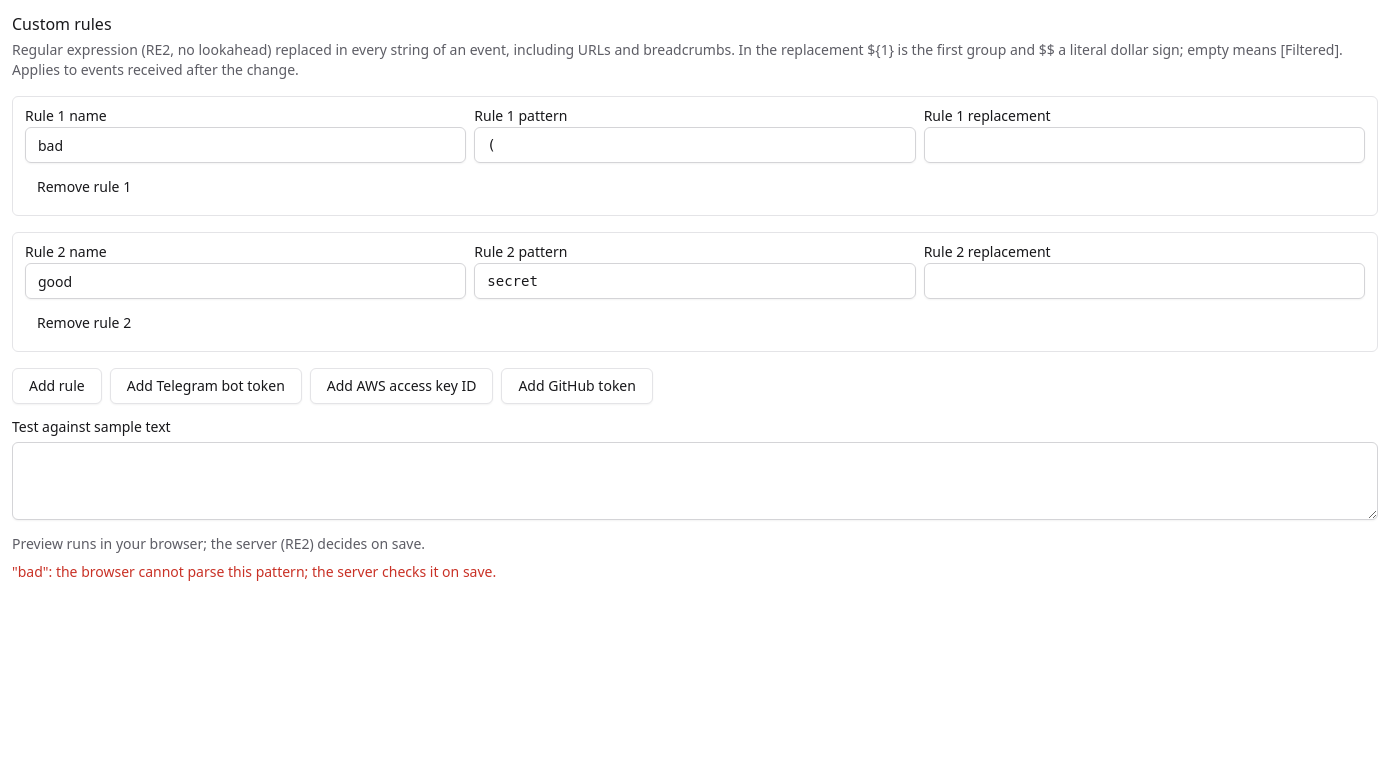
ScrubRulesEditor › shows every unparsable pattern in one alert and still previews the other rules
Type "a secret" into the text box labelled "Test against sample text" at (695, 481), box [12,442,1378,520]
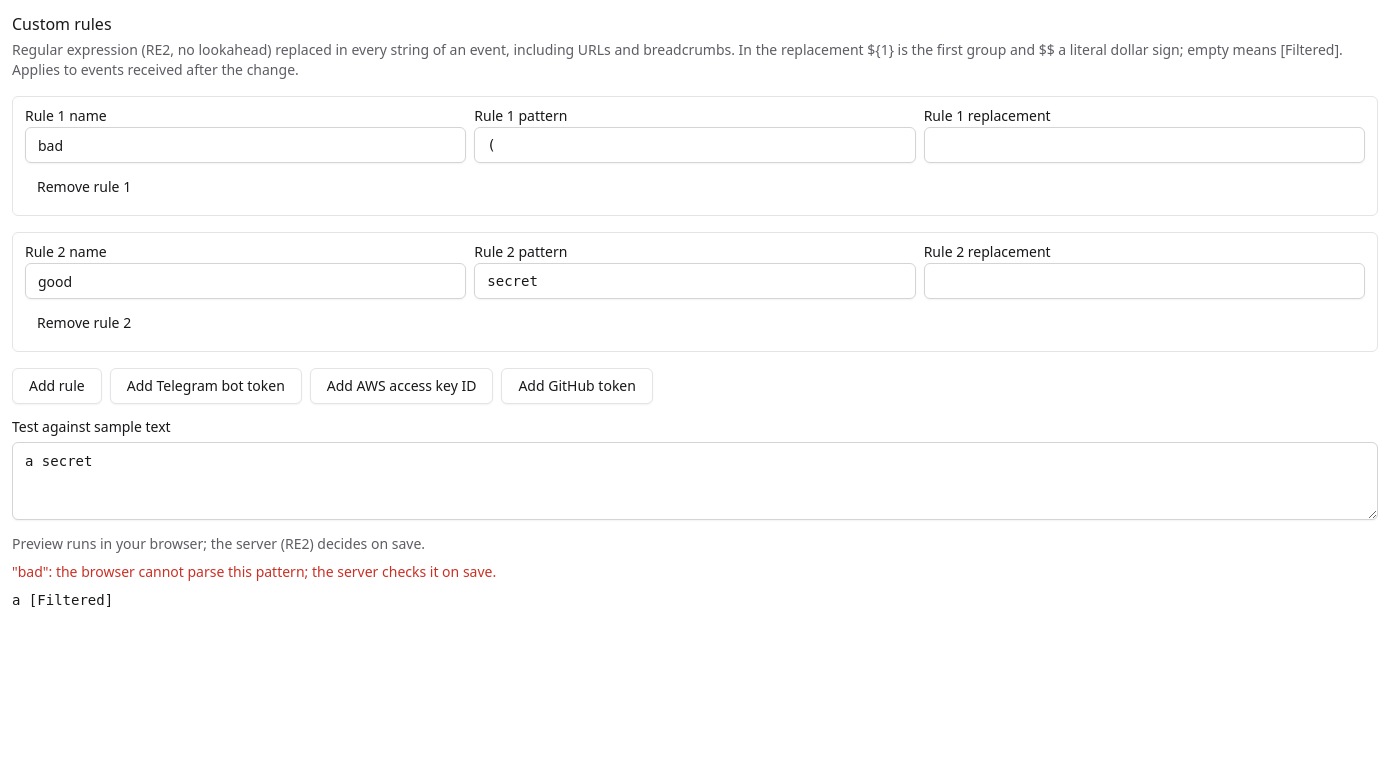
Expected: the message shows "\"bad\": the browser cannot parse this pattern", [12,562,496,581]
Result: the text named "Result" reads "a [Filtered]" at [12,592,113,608]
